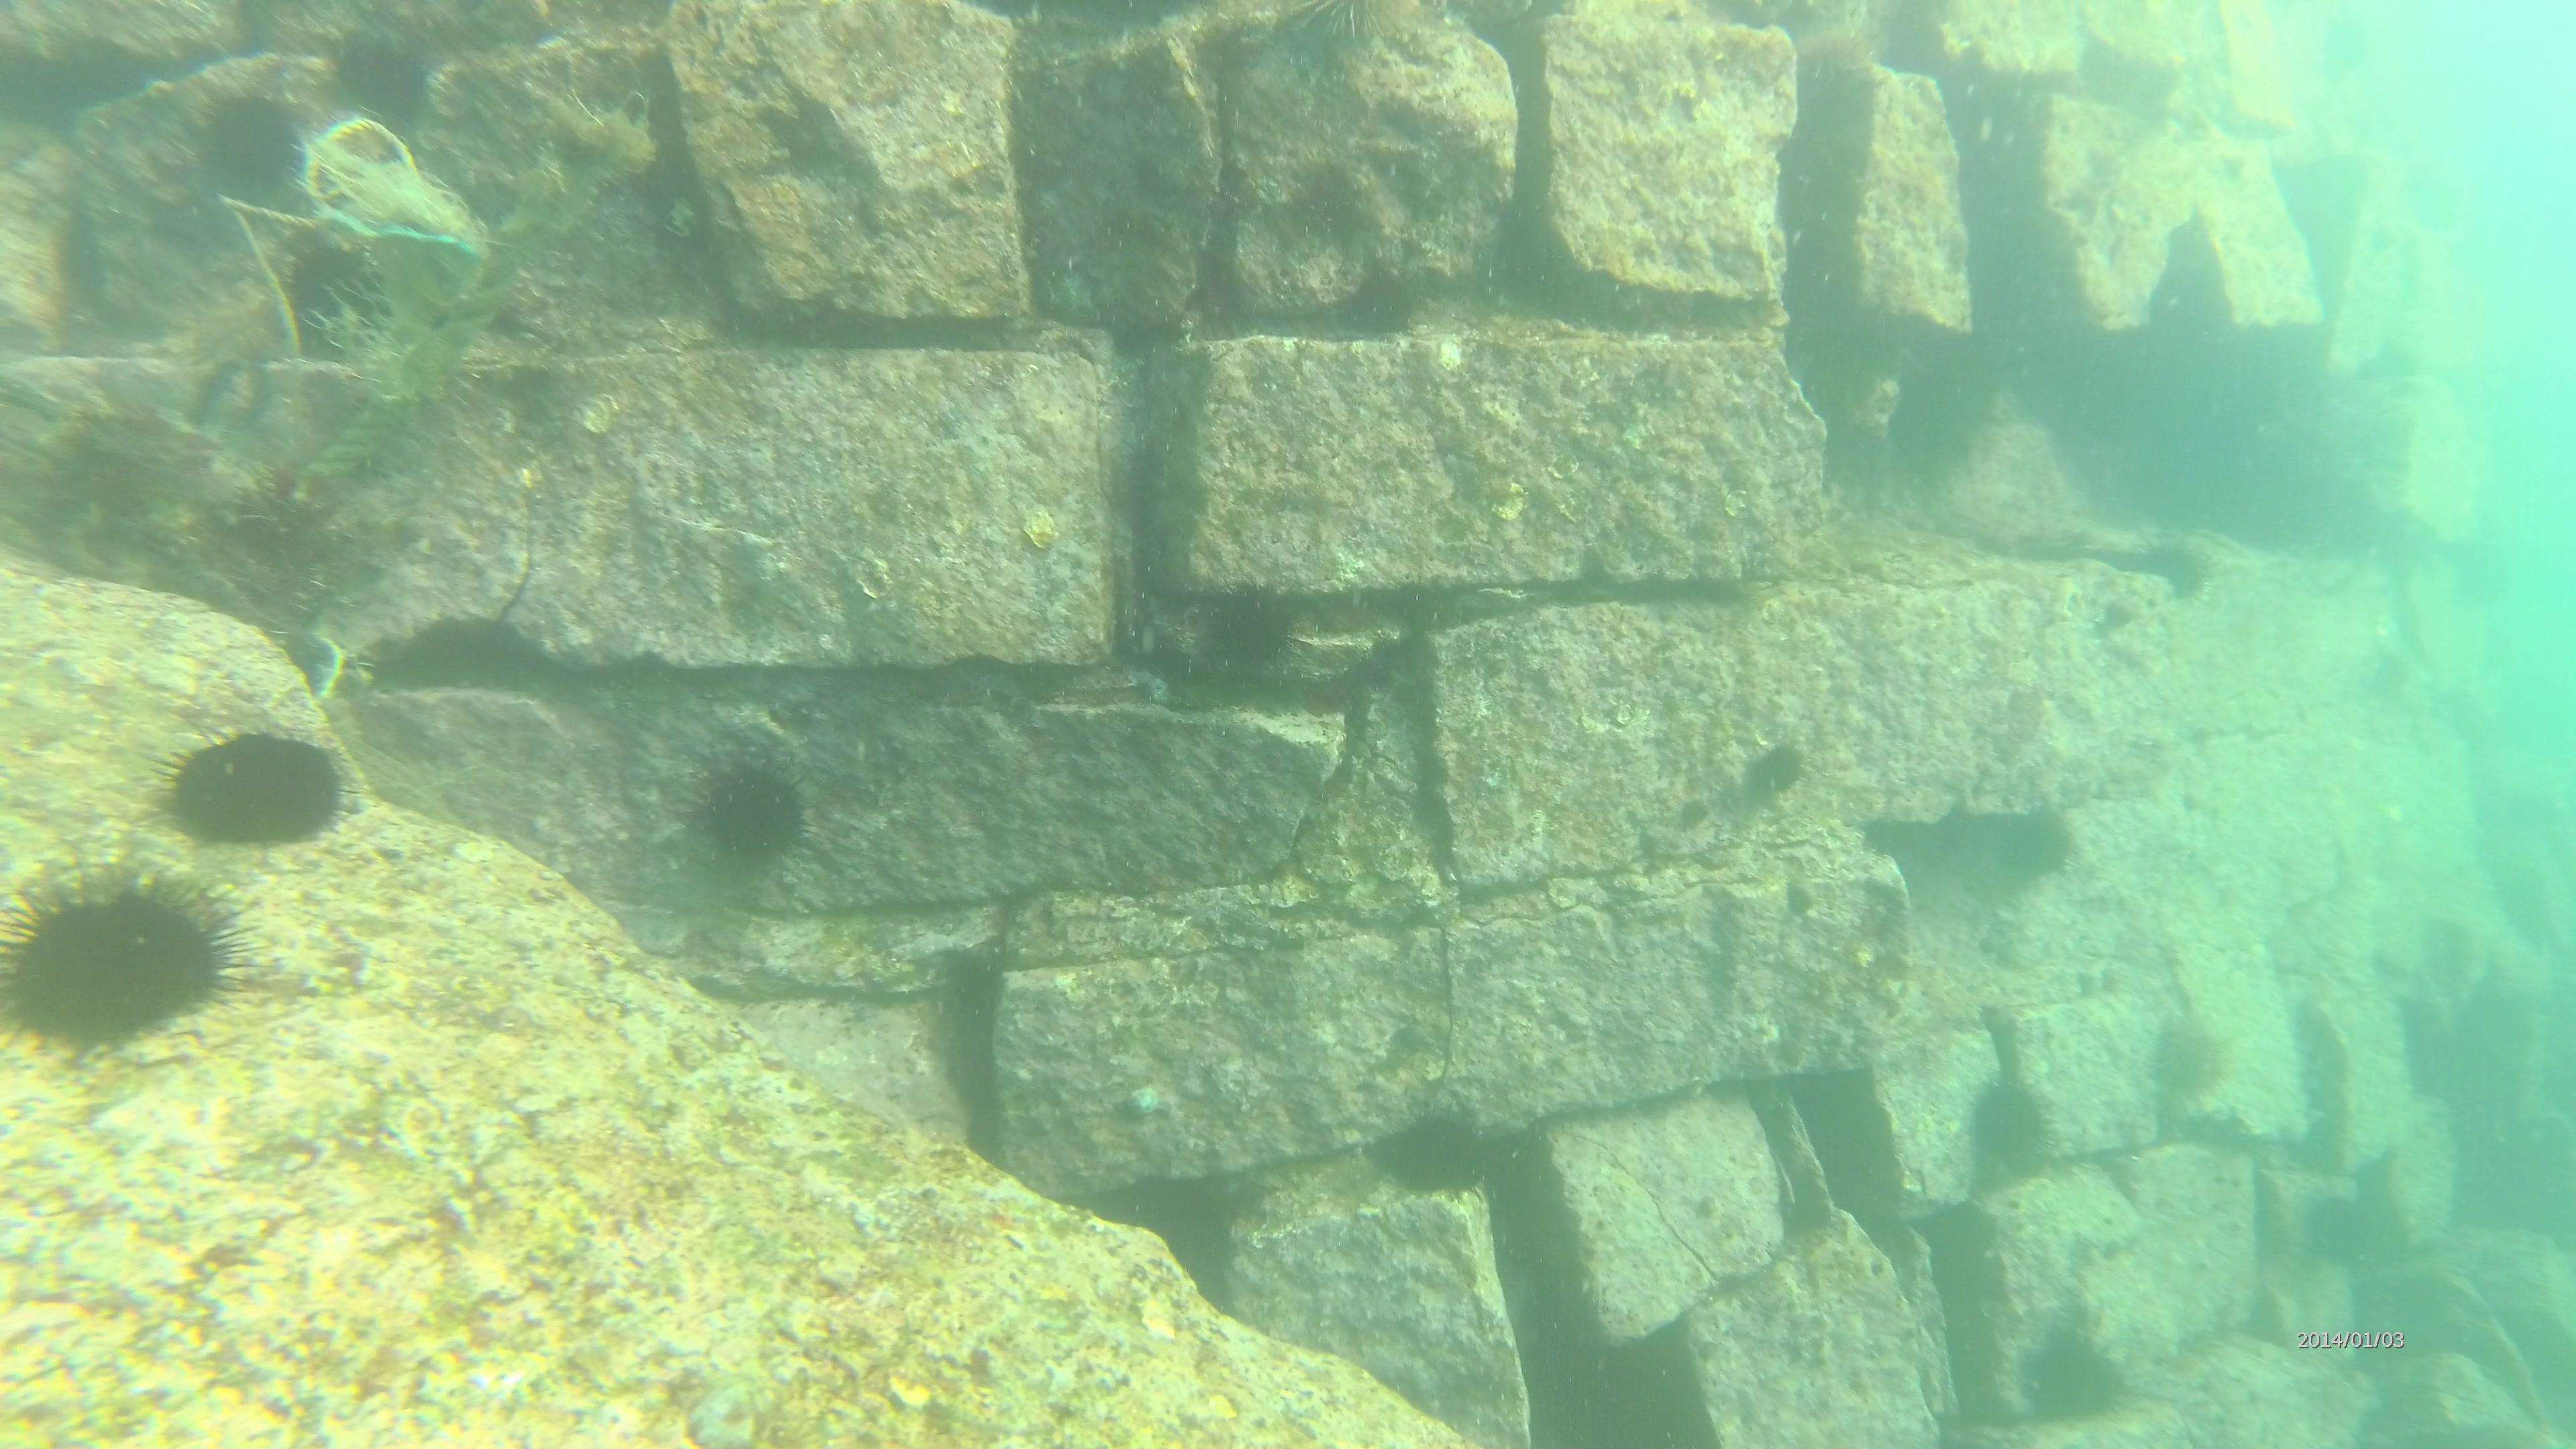echinus: (0, 863, 264, 1056), (147, 715, 366, 847), (676, 757, 828, 869), (1369, 1097, 1502, 1200), (2024, 1323, 2137, 1430), (2305, 1187, 2419, 1276), (1205, 577, 1292, 681), (1967, 1065, 2047, 1171), (2150, 1024, 2235, 1115), (1339, 260, 1422, 338), (2144, 527, 2224, 596), (1755, 727, 1810, 793)
